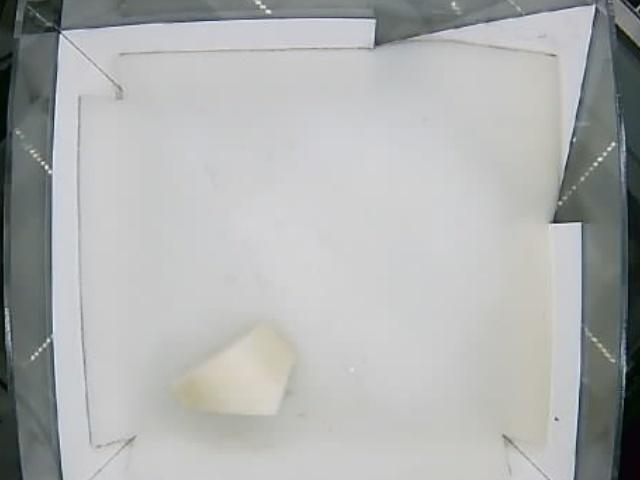Mooli: (172, 323, 297, 416)
